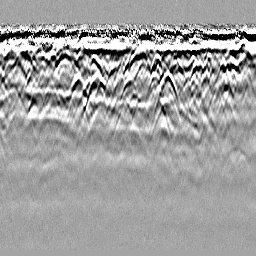cavity: (118, 74, 138, 98)
